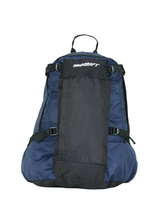bag: (22, 34, 141, 194)
